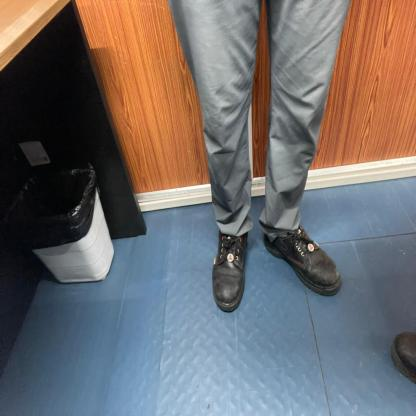bota: (263, 222, 344, 299), (210, 227, 252, 315)
